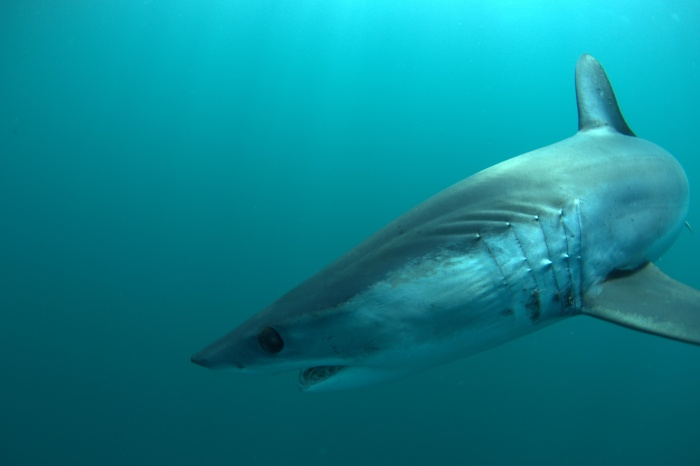Mako: (176, 49, 700, 424)
